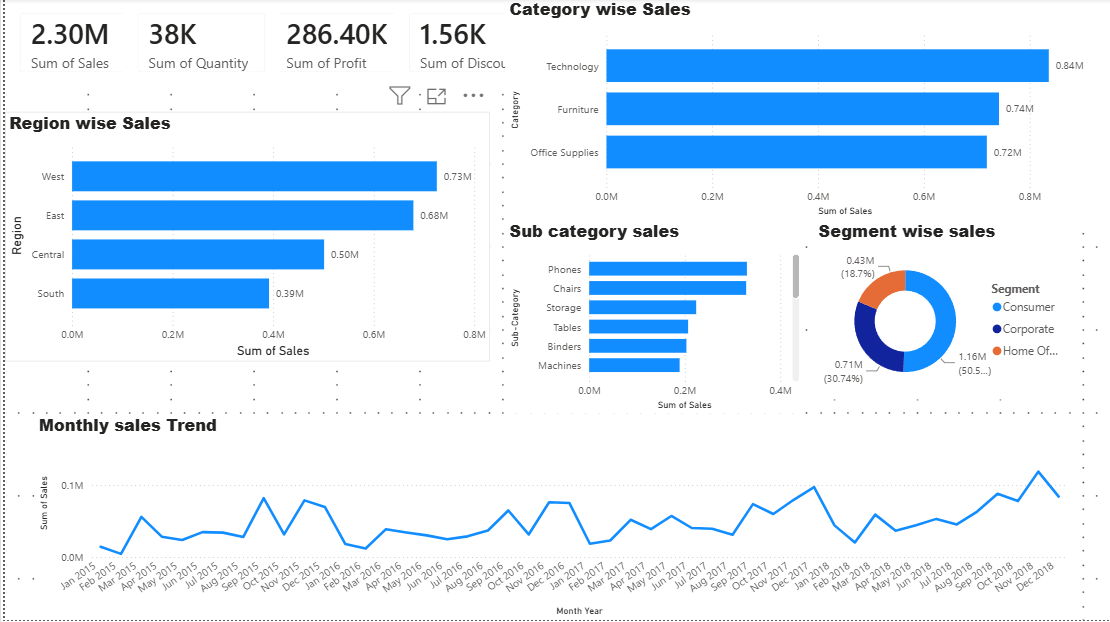

This screenshot's page, from the dashboard's own definition file:
{"tool":"powerbi","page":{"name":"Page 1","canvas":[1280,720],"ordinal":0},"visuals":[{"type":"cardVisual","fields":{"Data":["Sum(Superstore.Sales)"]},"box":[0,0,184.3,103.7],"z":0},{"type":"cardVisual","fields":{"Data":["Sum(Superstore.Profit)"]},"box":[295.7,0,185.8,103.7],"z":2},{"type":"cardVisual","fields":{"Data":["Sum(Superstore.Quantity)"]},"box":[136.3,0,182.7,103.7],"z":3},{"type":"cardVisual","fields":{"Data":["Sum(Superstore.Discount)"]},"box":[450.6,0,280.3,103.7],"z":4},{"type":"clusteredBarChart","title":"Region wise Sales","fields":{"Category":["Superstore.Region"],"Y":["Sum(Superstore.Sales)"]},"box":[0,131.6,562.1,289.5],"z":5},{"type":"clusteredBarChart","title":"Category wise Sales","fields":{"Y":["Sum(Superstore.Sales)"],"Category":["Superstore.Category"]},"box":[579.1,0,689,257],"z":6},{"type":"lineChart","title":"Monthly sales Trend","fields":{"Y":["Sum(Superstore.Sales)"],"Category":["Superstore.Month Year"]},"box":[34.1,481.5,1200,238.5],"z":7},{"type":"clusteredBarChart","title":"Sub category sales","fields":{"Category":["Superstore.Sub-Category"],"Y":["Sum(Superstore.Sales)"]},"box":[579.1,257,345.3,224.5],"z":8},{"type":"donutChart","title":"Segment wise sales","fields":{"Category":["Superstore.Segment"],"Y":["Sum(Superstore.Sales)"]},"box":[936.8,257,297.3,207.5],"z":9}]}

Visuals, with their boxes in screenshot pixels (x1, y1, x2, y2), scaled from the page's 1280x720 canvas onto the 1110x622 screenshot:
cardVisual - Sum(Superstore.Sales): x1=0, y1=0, x2=160, y2=90
cardVisual - Sum(Superstore.Profit): x1=256, y1=0, x2=418, y2=90
cardVisual - Sum(Superstore.Quantity): x1=118, y1=0, x2=277, y2=90
cardVisual - Sum(Superstore.Discount): x1=391, y1=0, x2=634, y2=90
"Region wise Sales" clusteredBarChart: x1=0, y1=114, x2=487, y2=364
"Category wise Sales" clusteredBarChart: x1=502, y1=0, x2=1100, y2=222
"Monthly sales Trend" lineChart: x1=30, y1=416, x2=1070, y2=621
"Sub category sales" clusteredBarChart: x1=502, y1=222, x2=802, y2=416
"Segment wise sales" donutChart: x1=812, y1=222, x2=1070, y2=401
